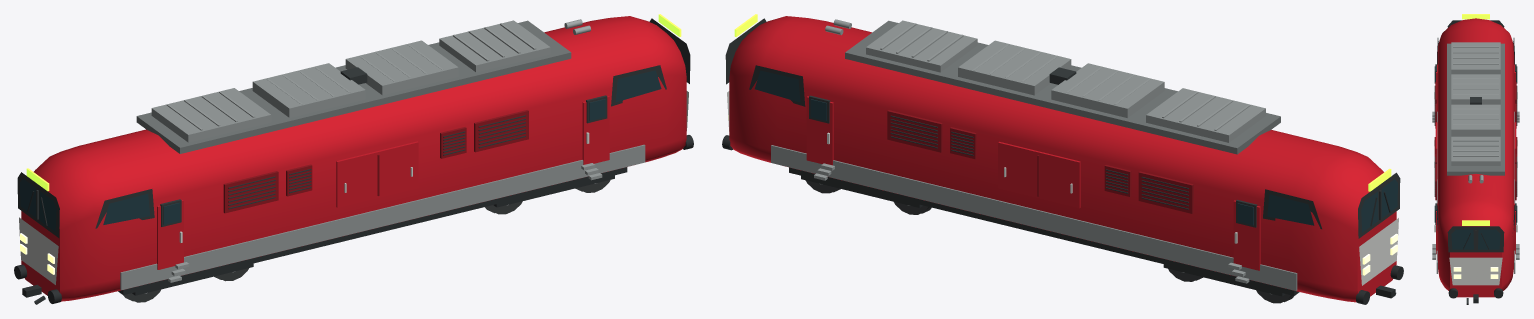
The model's file is db-regional-express-br245.glb.
3 renders of one model, left to right at view 1: azimuth 30°, elevation 25°; view 2: azimuth 150°, elevation 25°; view 3: azimuth 270°, elevation 25°, orthographic. The views are drawn at different scales.
Visible parts, largest first — view 1: br245_lofted_body, br245_lower_grey_band_-1, br245_roof_spine, br245_centre_access_panel_-1, br245_roof_module_1, br245_roof_module_0, br245_roof_module_2, br245_roof_module_3, br245_underframe, br245_engine_grille_-1_0, br245_engine_grille_-1_3, br245_cab_-1_light_fascia (+16 smaller); view 2: br245_lofted_body, br245_lower_grey_band_1, br245_roof_spine, br245_centre_access_panel_1, br245_roof_module_1, br245_roof_module_0, br245_roof_module_2, br245_roof_module_3, br245_underframe, br245_engine_grille_1_0, br245_engine_grille_1_3, br245_bogie_b (+13 smaller); view 3: br245_lofted_body, br245_roof_spine, br245_roof_module_2, br245_roof_module_0, br245_roof_module_1, br245_cab_1_light_fascia, br245_roof_module_3, br245_cab_1_windscreen_mask, br245_cab_1_windscreen_1, br245_cab_1_windscreen_-1, br245_cab_1_destination_display, br245_cab_-1_destination_display (+20 smaller).
Part boxes in pixels (x1,y1,x2,y2): br245_lofted_body: (21,16,686,301); br245_lower_grey_band_-1: (120,144,645,290); br245_roof_spine: (136,20,571,153); br245_centre_access_panel_-1: (336,141,418,207); br245_roof_module_1: (252,63,365,117); br245_roof_module_0: (151,88,271,142); br245_roof_module_2: (345,40,458,95); br245_roof_module_3: (439,20,550,72); br245_underframe: (118,167,627,295); br245_engine_grille_-1_0: (223,171,278,213); br245_engine_grille_-1_3: (474,110,528,152); br245_cab_-1_light_fascia: (19,217,58,284); br245_lofted_body: (729,16,1396,302); br245_lower_grey_band_1: (771,145,1297,290); br245_roof_spine: (845,20,1280,154); br245_centre_access_panel_1: (998,141,1080,208); br245_roof_module_1: (1051,63,1164,117); br245_roof_module_0: (1146,88,1265,142); br245_roof_module_2: (958,40,1071,95); br245_roof_module_3: (866,20,977,72); br245_underframe: (789,167,1299,295); br245_engine_grille_1_0: (1138,171,1193,213); br245_engine_grille_1_3: (887,110,942,152); br245_bogie_b: (801,170,931,214); br245_lofted_body: (1437,18,1514,297); br245_roof_spine: (1447,43,1504,175); br245_roof_module_2: (1451,104,1500,135); br245_roof_module_0: (1451,42,1500,74); br245_roof_module_1: (1451,74,1500,104); br245_cab_1_light_fascia: (1449,257,1502,285); br245_roof_module_3: (1451,137,1500,165); br245_cab_1_windscreen_mask: (1447,226,1504,252); br245_cab_1_windscreen_1: (1478,229,1500,249); br245_cab_1_windscreen_-1: (1451,229,1473,249); br245_cab_1_destination_display: (1462,220,1489,225); br245_cab_-1_destination_display: (1462,14,1489,19).
Bounding box in the file's own units: 19.88 × 4.75 × 3.41.
